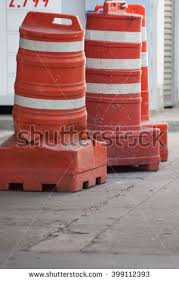barrel: (15, 15, 83, 134), (89, 6, 150, 124), (83, 15, 142, 129)
